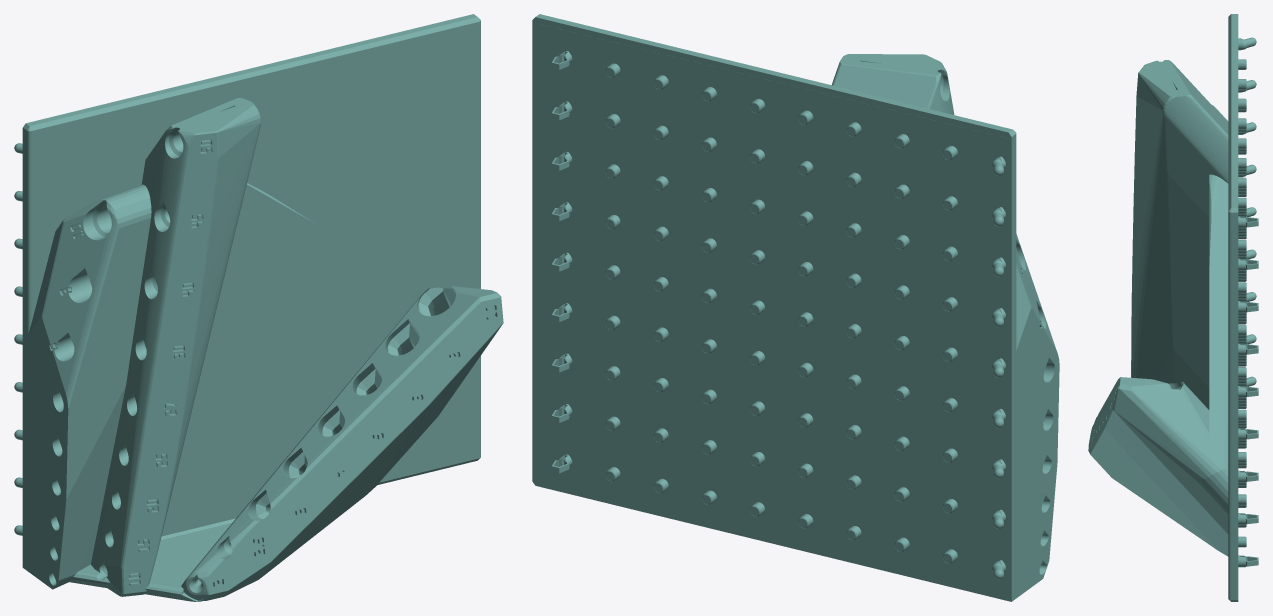
File: part-hx04__v2__left-cheek__fit-pf02c9-hoop5__print.glb
3 views of the same model, side by side, from view 1: azimuth 30°, elevation 25°; view 2: azimuth 150°, elevation 25°; view 3: azimuth 270°, elevation 25° (orthographic). The views are drawn at different scales.
Visible parts, largest first — view 1: holder; view 2: holder; view 3: holder.
Boxes of the visible parts, bbox=[...] form: holder: bbox=[14, 14, 503, 601]; holder: bbox=[532, 14, 1059, 601]; holder: bbox=[1088, 14, 1258, 601].
Bounding box in the file's own units: 0.2526 × 0.236 × 0.0924.
